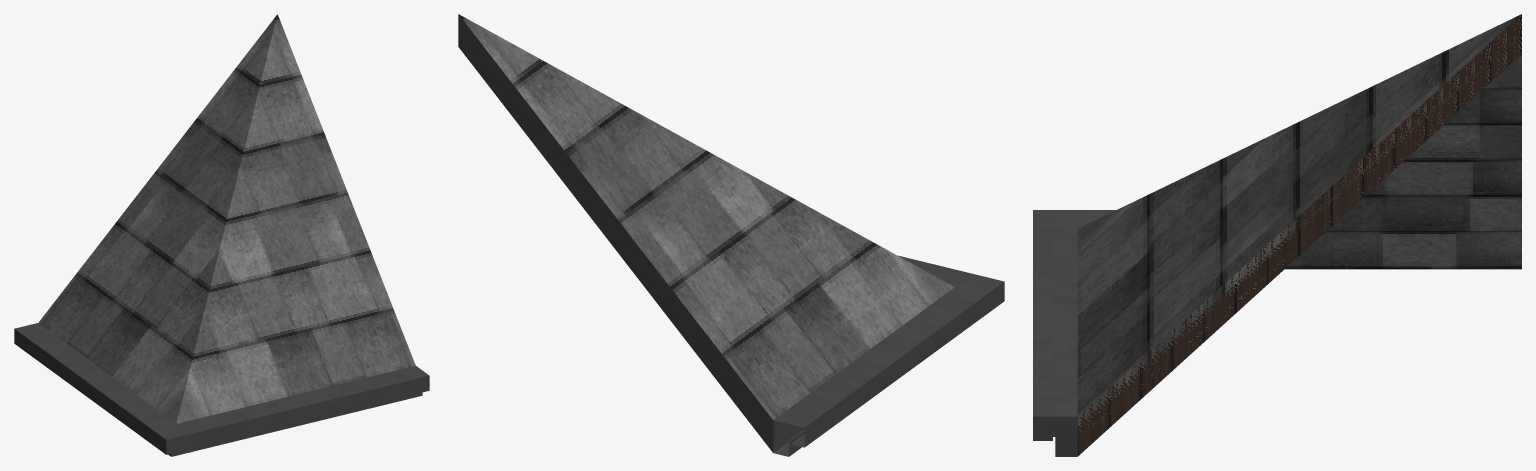
Rendered from Roof_Base_Corner.glb.
3 renders of one model, left to right at view 1: azimuth 30°, elevation 25°; view 2: azimuth 150°, elevation 25°; view 3: azimuth 270°, elevation 25°, orthographic. The views are drawn at different scales.
Visible parts, largest first — view 1: Roof_Base_Corner.001; view 2: Roof_Base_Corner.001; view 3: Roof_Base_Corner.001.
Boxes of the visible parts, x1,y1,x2,y2 form: Roof_Base_Corner.001: (14, 14, 429, 456); Roof_Base_Corner.001: (458, 14, 1004, 456); Roof_Base_Corner.001: (1033, 14, 1521, 456).
Bounding box in the file's own units: 2.2 × 2.2 × 2.2.
Materials: 1 (1 with a texture image).
